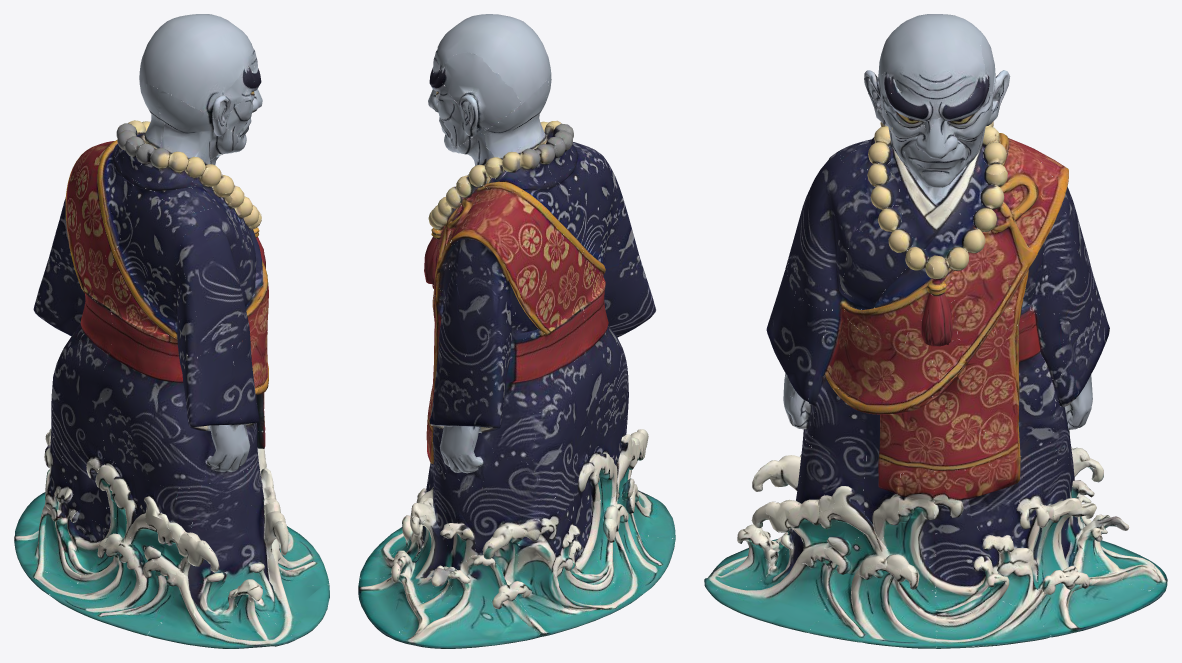
Rendered from umibozu_lite.glb.
The picture shows the model from 3 angles, left to right: view 1: azimuth 30°, elevation 25°; view 2: azimuth 150°, elevation 25°; view 3: azimuth 270°, elevation 25°; orthographic projection. The views are drawn at different scales.
Visible parts, largest first — view 1: kusuriuri; view 2: kusuriuri; view 3: kusuriuri.
Boxes of the visible parts, left/top/right/bottom form: kusuriuri: left=14, top=14, right=329, bottom=648; kusuriuri: left=358, top=14, right=675, bottom=648; kusuriuri: left=704, top=14, right=1167, bottom=648.
Size of the model in its own units: 1.07 by 2.2 by 1.6.
Materials: 1 (1 with a texture image).
